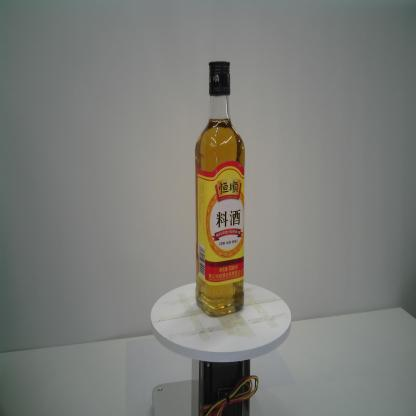Seasoner: (194, 60, 246, 318)
